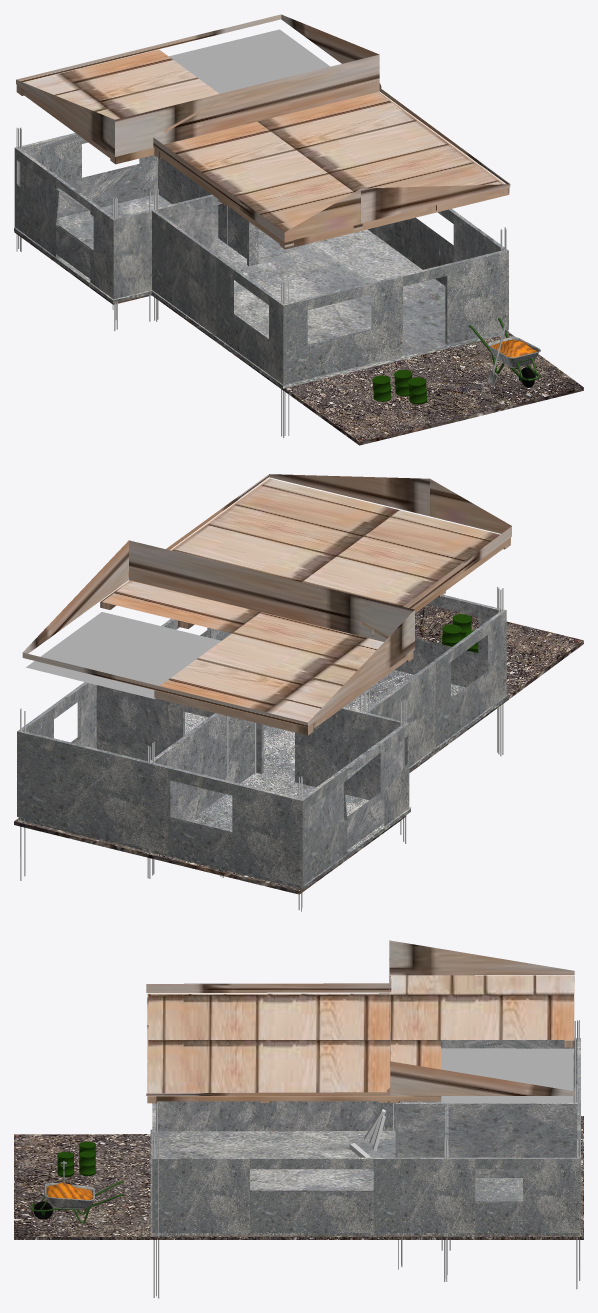
File: model plan.fbx
The picture shows the model from 3 angles, top to bottom: view 1: azimuth 30°, elevation 25°; view 2: azimuth 150°, elevation 25°; view 3: azimuth 270°, elevation 25°; orthographic projection. The views are drawn at different scales.
Visible parts, largest first — view 1: Roof, Floor.001, Floor, wall_02, wall_03, wall_05, wall_04, wall_06, wall_10, wall_07, barrels.000, Tray; view 2: Roof, wall_08, wall_06, wall_03, wall_05, Floor.001, Floor, wall_04, wall_07, wall_01, wall_02, wall_09 (+1 smaller); view 3: Roof, wall_10, Floor, Floor.001, wall_07, wall_09, wall_03, wall_05, barrels.000, Tray, Sand, woodlogs.005.
Part boxes in pixels (bbox=[...]): Roof: bbox=[16, 14, 510, 249]; Floor.001: bbox=[14, 194, 508, 388]; Floor: bbox=[14, 231, 583, 445]; wall_02: bbox=[283, 250, 508, 384]; wall_03: bbox=[152, 210, 283, 384]; wall_05: bbox=[14, 147, 114, 297]; wall_04: bbox=[111, 194, 254, 299]; wall_06: bbox=[15, 133, 156, 217]; wall_10: bbox=[368, 209, 508, 285]; wall_07: bbox=[157, 158, 258, 264]; barrels.000: bbox=[372, 369, 427, 404]; Tray: bbox=[487, 337, 540, 367]; Roof: bbox=[22, 474, 511, 735]; wall_08: bbox=[17, 730, 150, 849]; wall_06: bbox=[150, 762, 302, 886]; wall_03: bbox=[365, 610, 506, 766]; wall_05: bbox=[302, 723, 407, 885]; Floor.001: bbox=[18, 670, 508, 889]; Floor: bbox=[14, 604, 583, 894]; wall_04: bbox=[256, 707, 409, 808]; wall_07: bbox=[149, 713, 254, 821]; wall_01: bbox=[96, 685, 214, 761]; wall_02: bbox=[395, 595, 506, 687]; wall_09: bbox=[17, 682, 96, 748]; Roof: bbox=[146, 940, 574, 1103]; wall_10: bbox=[152, 1157, 447, 1232]; Floor: bbox=[14, 1116, 583, 1239]; Floor.001: bbox=[150, 1129, 579, 1235]; wall_07: bbox=[395, 1102, 578, 1177]; wall_09: bbox=[447, 1157, 580, 1232]; wall_03: bbox=[156, 1101, 395, 1131]; wall_05: bbox=[399, 1038, 578, 1102]; barrels.000: bbox=[57, 1141, 95, 1177]; Tray: bbox=[44, 1183, 94, 1208]; Sand: bbox=[46, 1182, 92, 1199]; woodlogs.005: bbox=[349, 1109, 385, 1157].
Bounding box in the file's own units: 1018 × 1017 × 2002.
14 materials, 10 textured.
